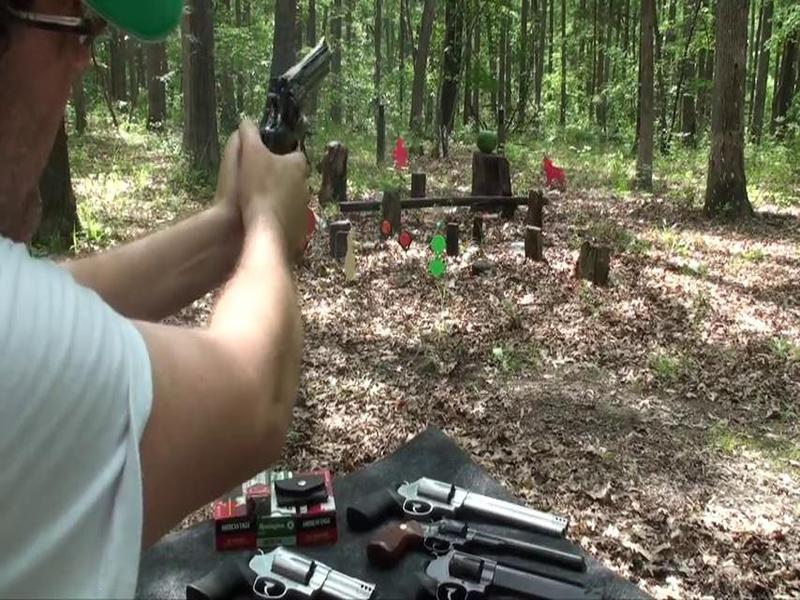Revolver: (243, 22, 352, 184)
